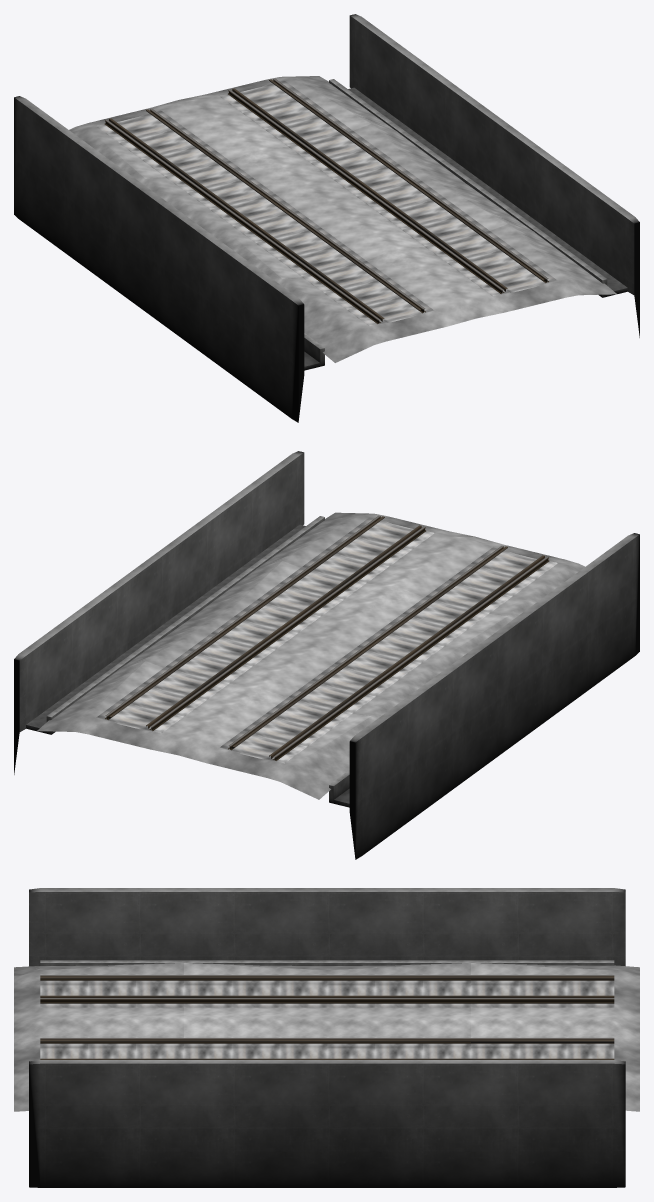
File: HT_2RAIL_50_WALL.glb
3 views of the same model, one above another, from view 1: azimuth 30°, elevation 25°; view 2: azimuth 150°, elevation 25°; view 3: azimuth 270°, elevation 25° (orthographic). The views are drawn at different scales.
Visible parts, largest first — view 1: Jari_All1, R000_RG_R1, R000_RG_L1; view 2: Jari_All1, R000_RG_R1, R000_RG_L1; view 3: Jari_All1, R000_RG_R1, R000_RG_L1.
Boxes of the visible parts, <box> form: Jari_All1: <box>14,14,639,422</box>; R000_RG_R1: <box>109,88,507,321</box>; R000_RG_L1: <box>146,79,544,310</box>; Jari_All1: <box>14,451,639,859</box>; R000_RG_R1: <box>146,525,544,758</box>; R000_RG_L1: <box>109,516,507,749</box>; Jari_All1: <box>14,888,639,1187</box>; R000_RG_R1: <box>40,976,614,1042</box>; R000_RG_L1: <box>40,995,614,1059</box>.
Bounding box in the file's own units: 36.23 × 11.93 × 54.53.
8 materials, 8 textured.
